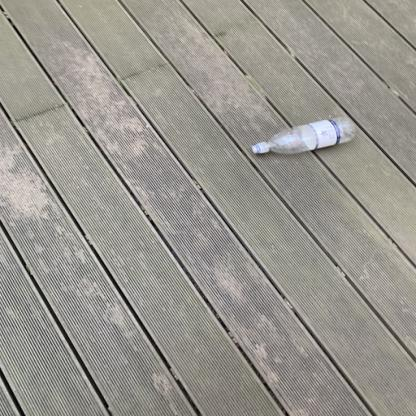trash: (245, 106, 355, 161)
